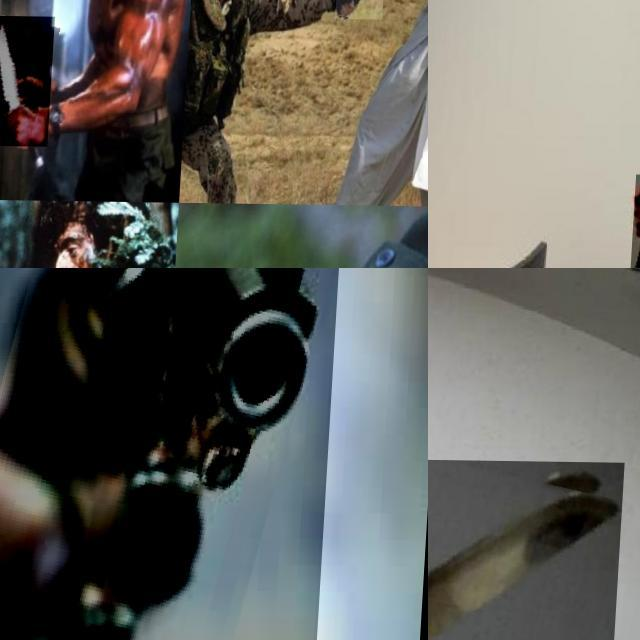-: (428, 458, 628, 640), (0, 15, 56, 146), (0, 91, 37, 184), (336, 0, 386, 26)
gun-knife-thesis - v11 Yolov5 augmented: (0, 268, 351, 640)
